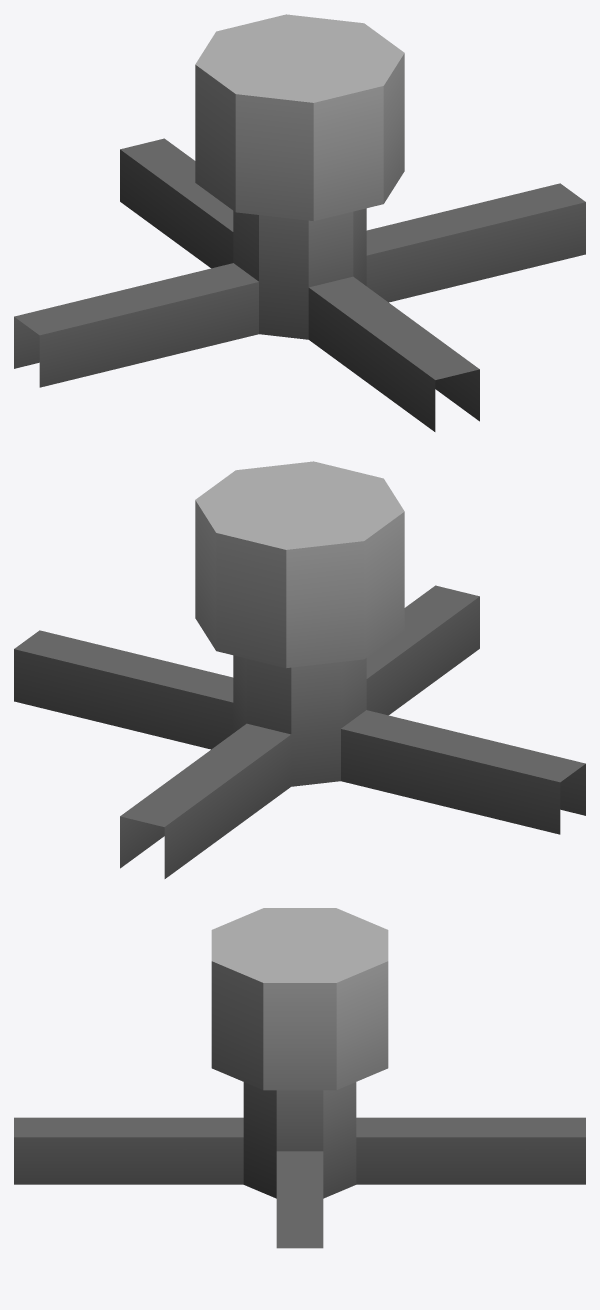
Rendered from rotate mechanism.fbx.
3 views of the same model, one above another, from view 1: azimuth 30°, elevation 25°; view 2: azimuth 150°, elevation 25°; view 3: azimuth 270°, elevation 25° (orthographic). The views are drawn at different scales.
Visible parts, largest first — view 1: rotate_mechanism; view 2: rotate_mechanism; view 3: rotate_mechanism.
Boxes of the visible parts, x1,y1,x2,y2 form: rotate_mechanism: [14, 14, 585, 431]; rotate_mechanism: [14, 461, 585, 878]; rotate_mechanism: [14, 908, 585, 1248].
Bounding box in the file's own units: 539 × 239 × 539.
1 material, 1 textured.
